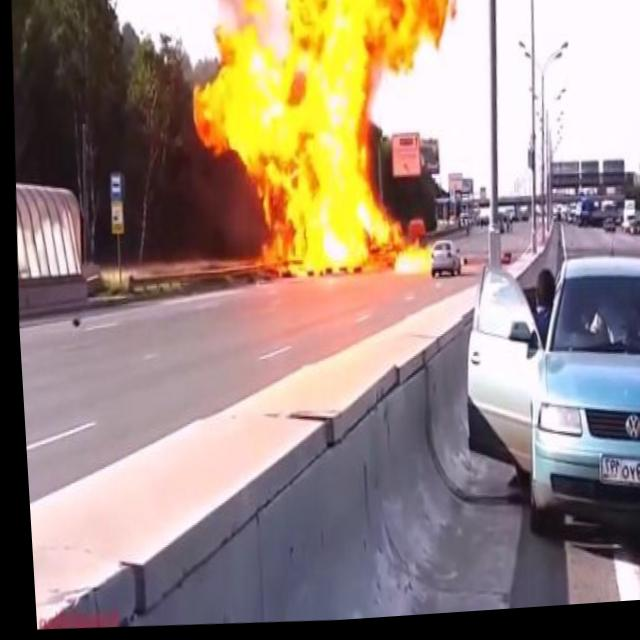fire: (167, 0, 472, 302)
